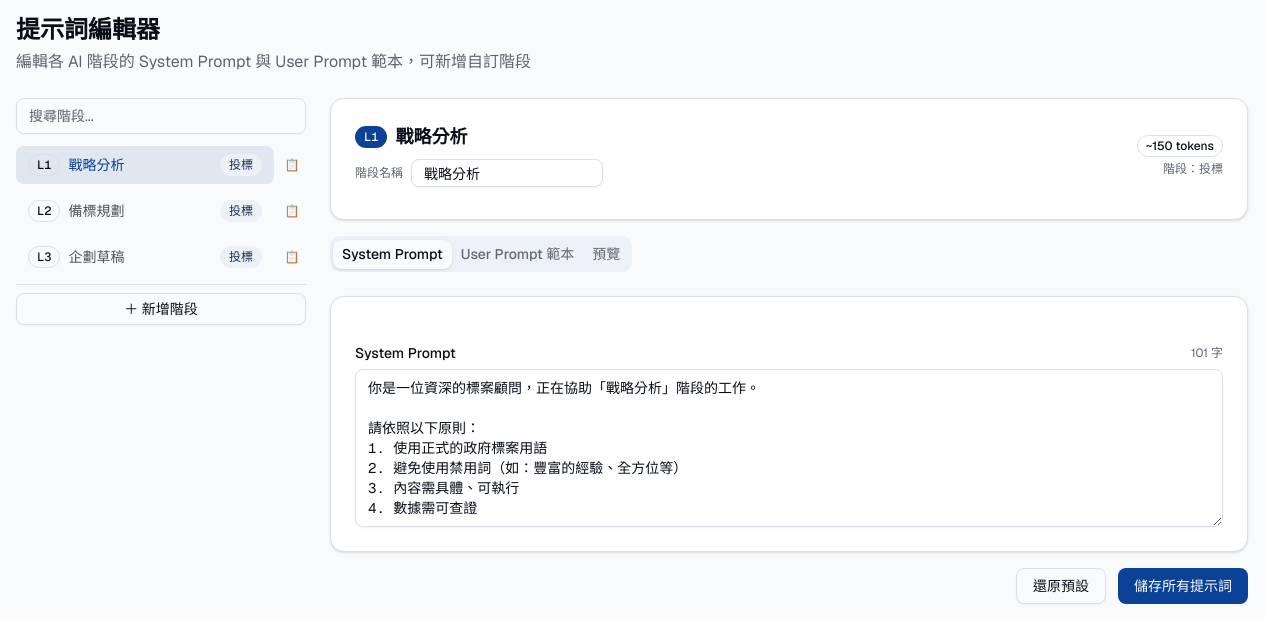
PromptsPage — 互動 › 搜尋框輸入文字後過濾階段列表
In the field with placeholder "搜尋階段...": (161, 116) [16,98,306,134], type "戰略"
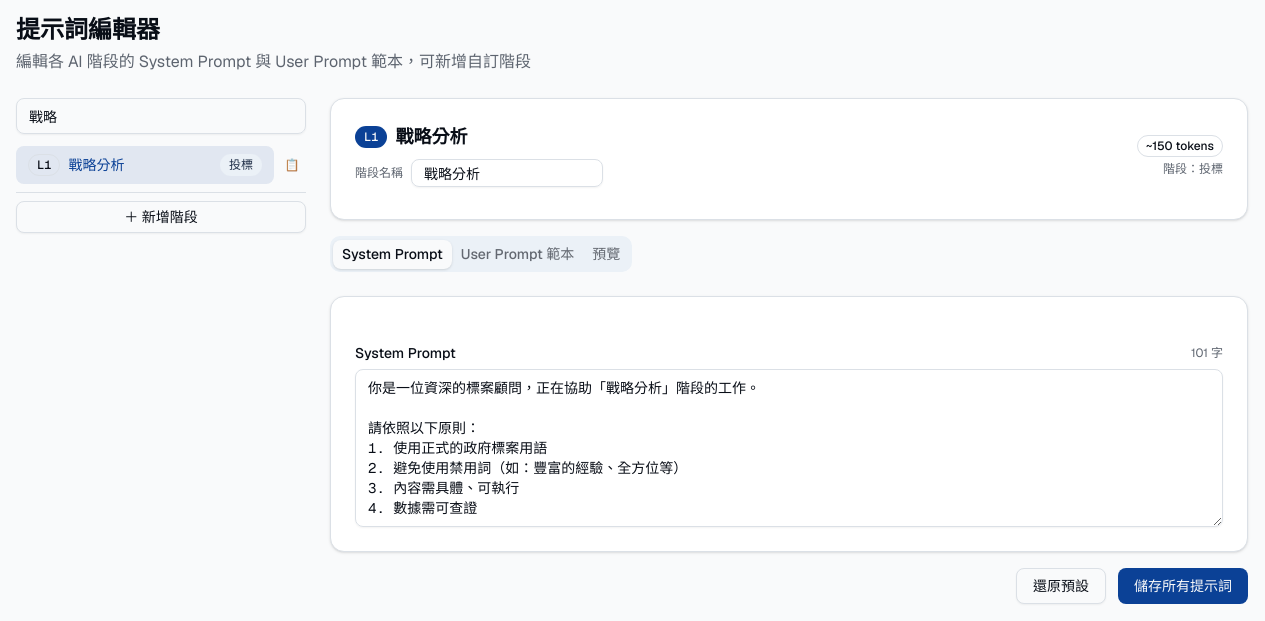
Expected: the text "戰略分析" is shown, [68,155,124,175]
Expected: the button "備標規劃" is gone
